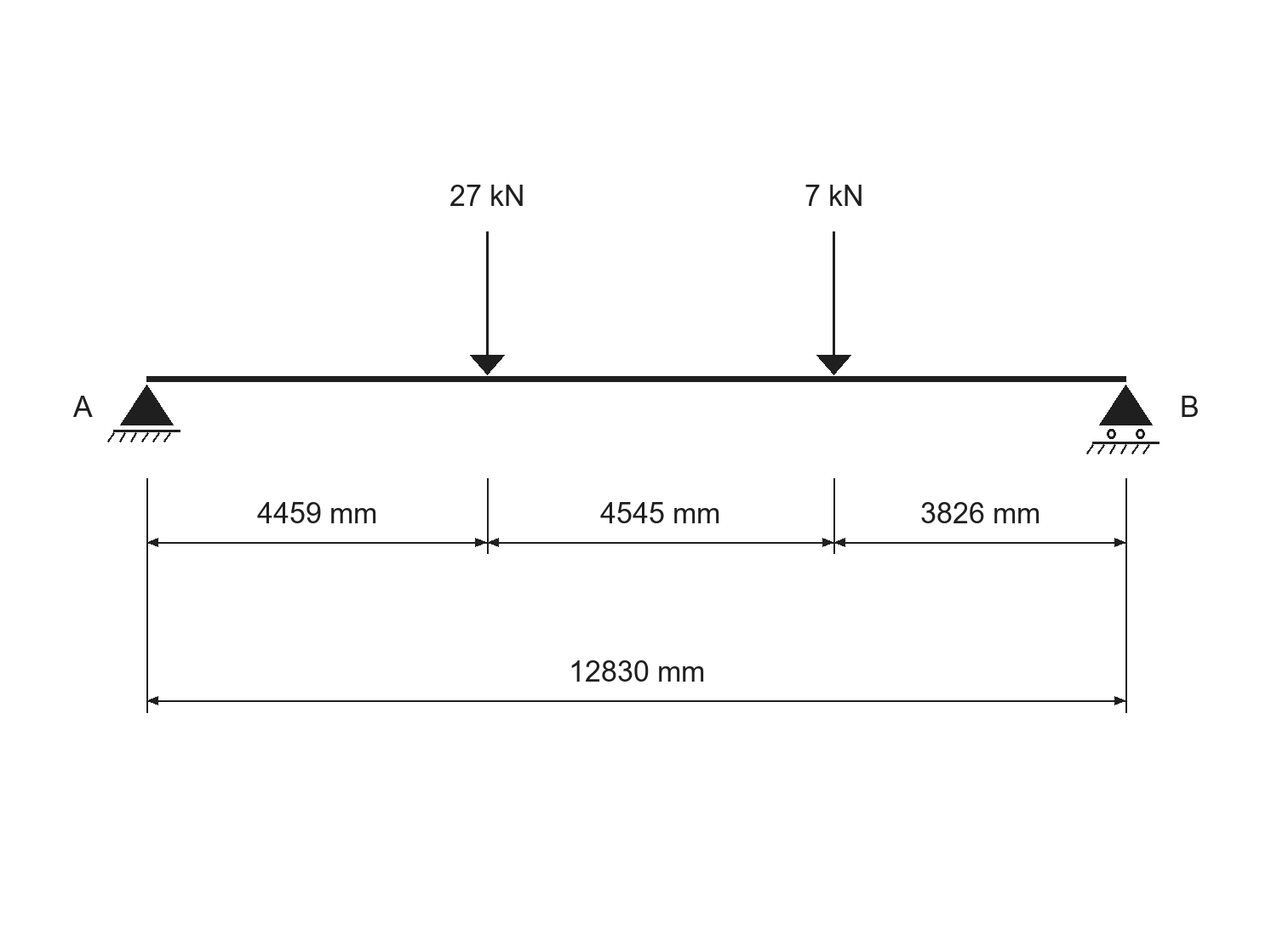pin_support: (107, 385, 180, 442)
point_load: (470, 231, 505, 375), (816, 231, 851, 375)
roller_support: (1086, 385, 1160, 454)
